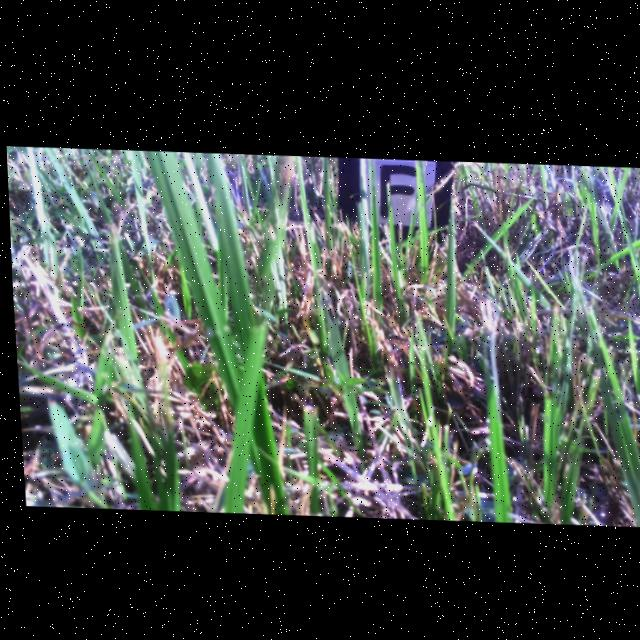F: (377, 161, 419, 213)
